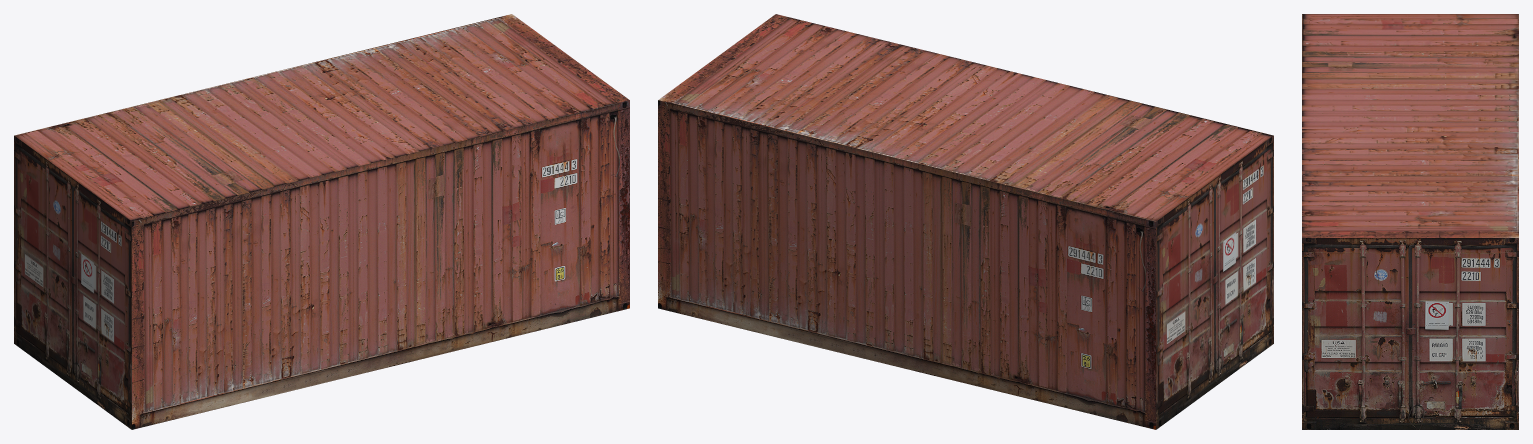
File: Cargo_Container_01.fbx
3 renders of one model, left to right at view 1: azimuth 30°, elevation 25°; view 2: azimuth 150°, elevation 25°; view 3: azimuth 270°, elevation 25°, orthographic. The views are drawn at different scales.
Parts seen in each view (by area): view 1: Cargo_Container_01; view 2: Cargo_Container_01; view 3: Cargo_Container_01.
Part boxes in pixels (bbox=[...]): Cargo_Container_01: bbox=[14, 14, 629, 429]; Cargo_Container_01: bbox=[658, 14, 1273, 429]; Cargo_Container_01: bbox=[1302, 14, 1518, 429].
Size of the model in its own units: 723 by 289 by 296.
1 material, 1 textured.
